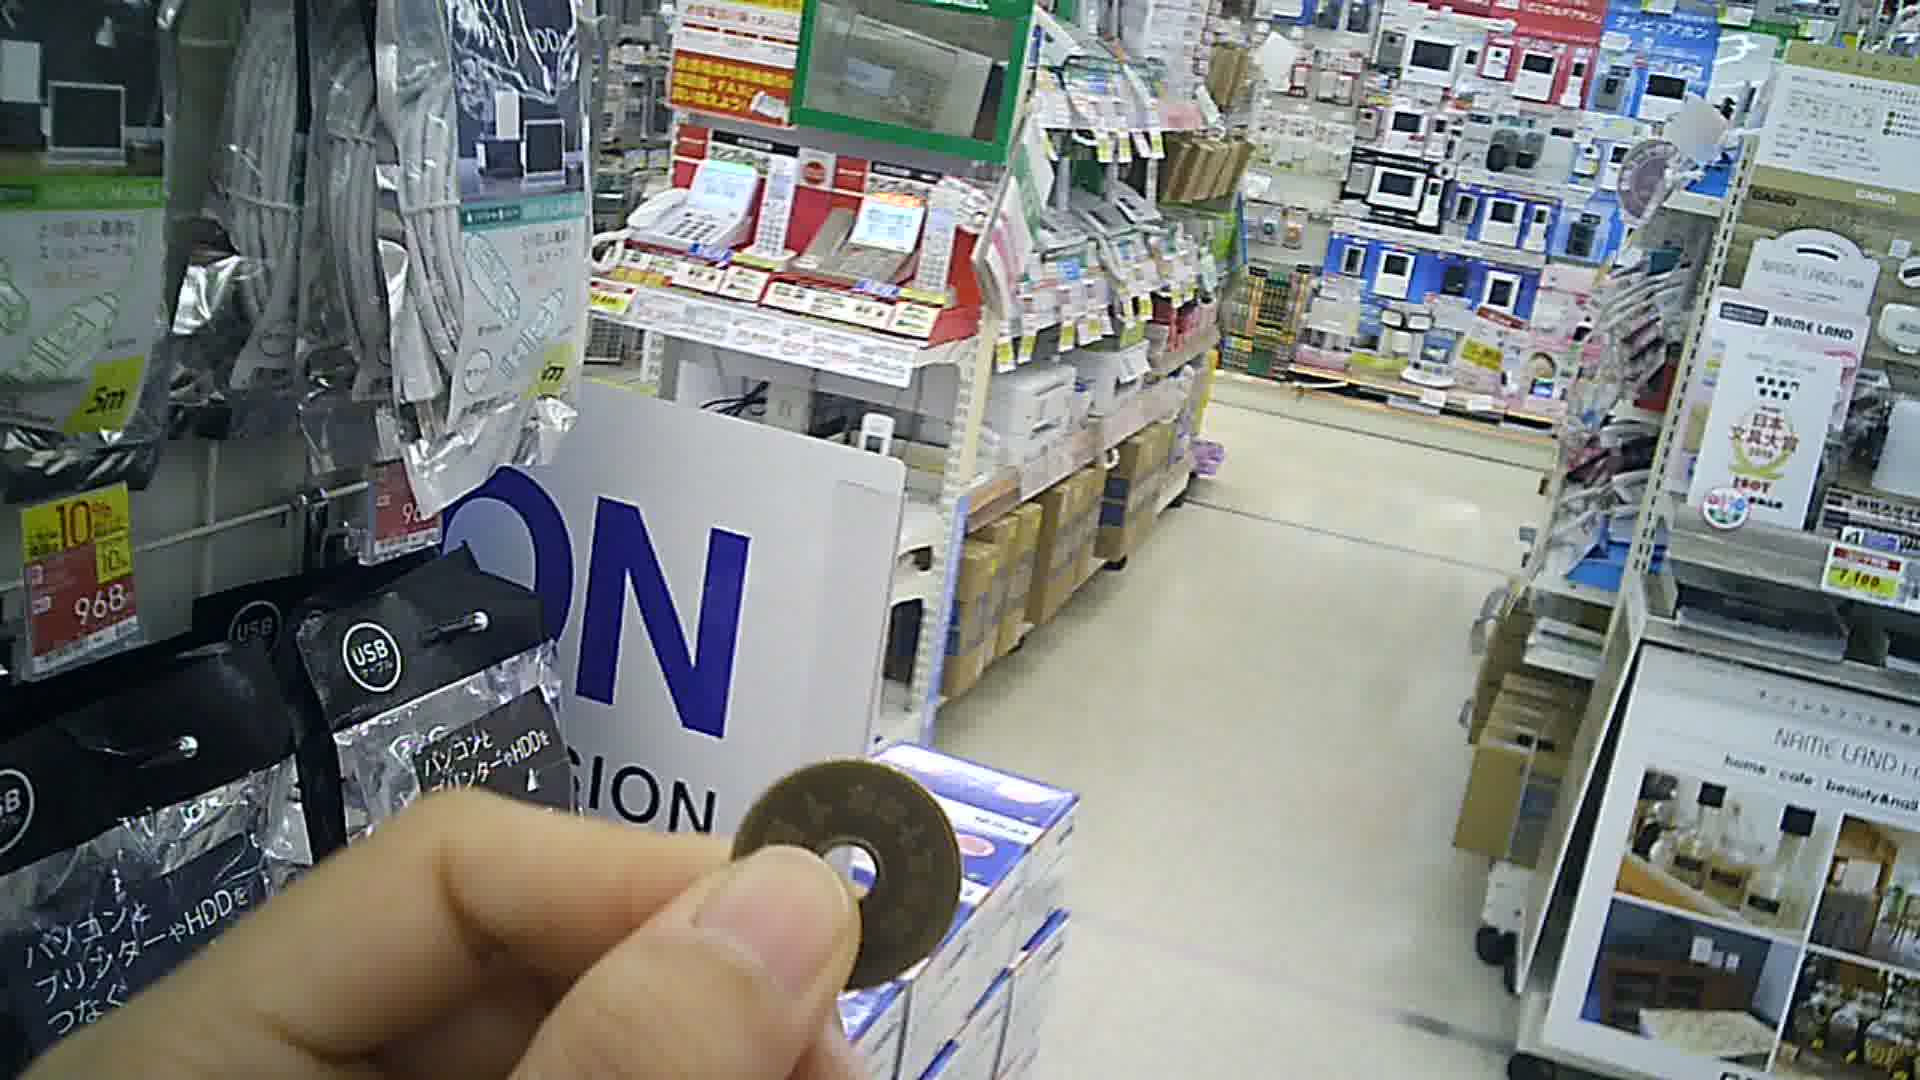5 Yen: (715, 750, 961, 994)
